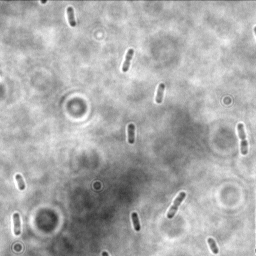Dividing: (165, 190, 188, 219), (237, 122, 249, 156), (121, 47, 135, 73)
Rod: (11, 211, 23, 236), (154, 81, 166, 105), (205, 236, 220, 254), (66, 6, 78, 27), (15, 172, 27, 191), (131, 211, 142, 231), (127, 123, 136, 145)
